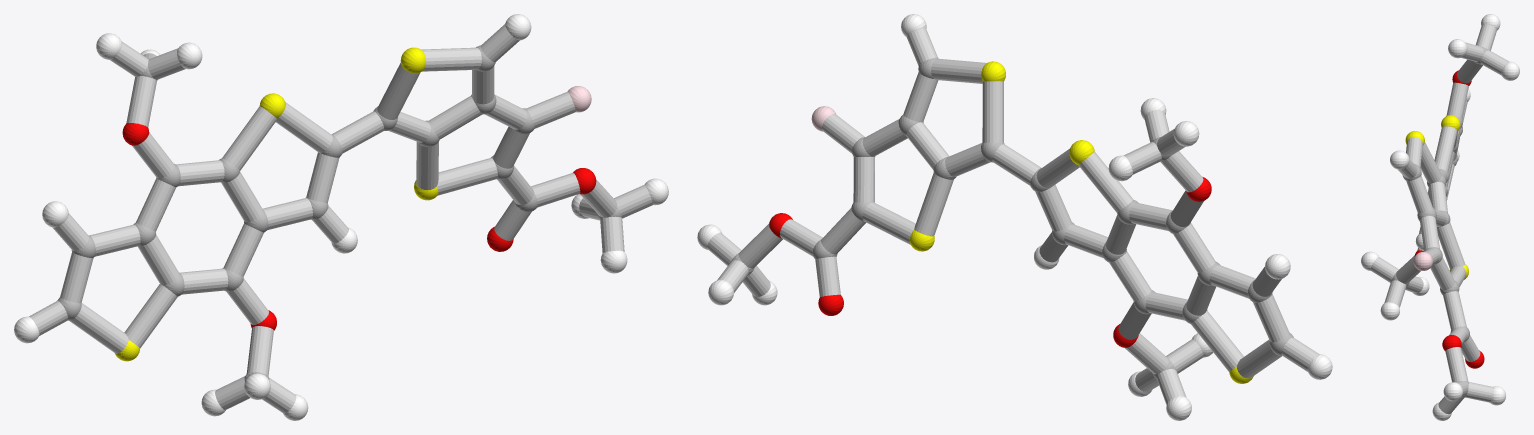
The model's file is Dimethoxy_Benzodithiophene_Phi_10_Theta_210_Methylcarbonyl_3_Fluoro_Thienothiophene.glb.
3 renders of one model, left to right at view 1: azimuth 30°, elevation 25°; view 2: azimuth 150°, elevation 25°; view 3: azimuth 270°, elevation 25°, orthographic. The views are drawn at different scales.
Parts seen in each view (by area): view 1: grp15205, grp8689, grp1, grp7241, grp13395; view 2: grp15205, grp8689, grp1, grp7241, grp13395; view 3: grp15205, grp8689, grp1, grp13395, grp7241, grp14843.
Boxes of the visible parts, x1=… form: grp15205: x1=29, y1=24, x2=653, y2=413; grp8689: x1=14, y1=14, x2=668, y2=420; grp1: x1=57, y1=45, x2=621, y2=381; grp7241: x1=114, y1=47, x2=438, y2=361; grp13395: x1=122, y1=123, x2=596, y2=330; grp15205: x1=707, y1=28, x2=1319, y2=404; grp8689: x1=697, y1=14, x2=1332, y2=420; grp1: x1=731, y1=57, x2=1293, y2=379; grp7241: x1=909, y1=61, x2=1253, y2=383; grp13395: x1=769, y1=177, x2=1211, y2=347; grp15205: x1=1370, y1=24, x2=1508, y2=414; grp8689: x1=1361, y1=14, x2=1519, y2=420; grp1: x1=1391, y1=46, x2=1488, y2=397; grp13395: x1=1414, y1=70, x2=1484, y2=368; grp7241: x1=1405, y1=115, x2=1468, y2=279; grp14843: x1=1413, y1=252, x2=1432, y2=270.
Bounding box in the file's own units: 16.93 × 8.99 × 4.91.
